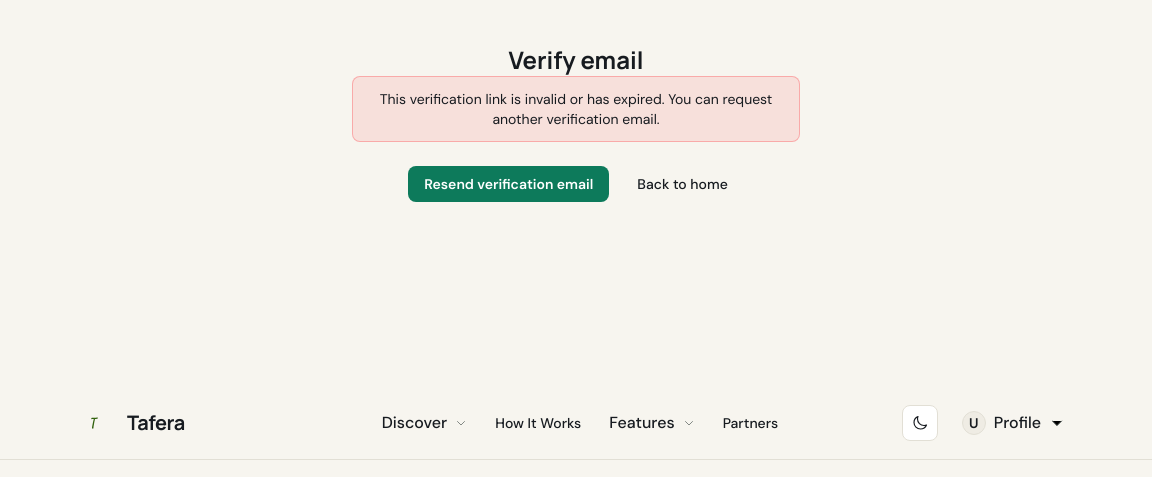
Scenario: VerifyEmail resend › shows backend delivery failure feedback after a resend
The width and height of the screenshot is (1152, 477).
Expected: the text "invalid or has expired" is shown, [380,90,772,128]
Click the button "Resend verification email" at (509, 184), box [408,166,609,202]
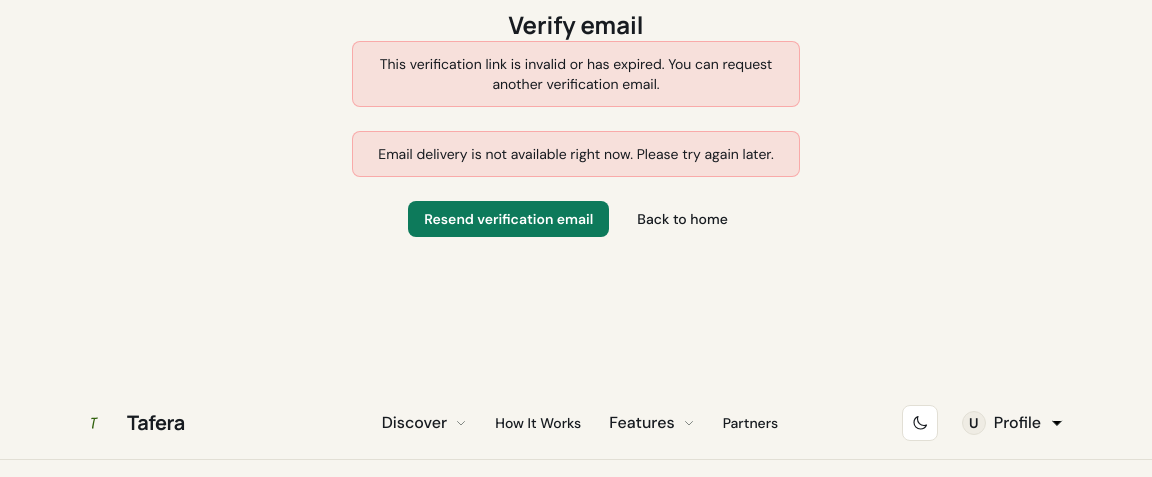
Expected: the message shows "Email delivery is not available", [378,145,774,163]
